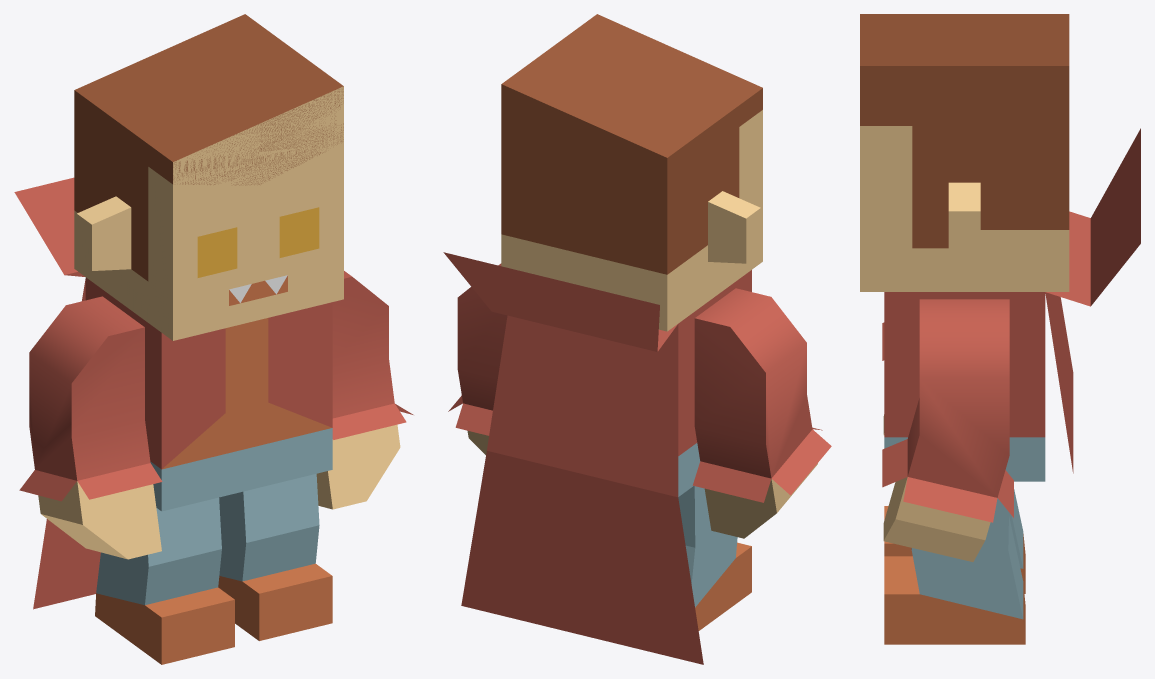
File: characterVampire.obj
3 views of the same model, side by side, from view 1: azimuth 30°, elevation 25°; view 2: azimuth 150°, elevation 25°; view 3: azimuth 270°, elevation 25° (orthographic). The views are drawn at different scales.
Parts seen in each view (by area): view 1: head, body, armRight, legRight, legLeft, armLeft, cape; view 2: cape, head, armRight, legRight, armLeft, body; view 3: head, armLeft, legLeft, body, cape, legRight.
Part boxes in pixels (x1=…): head: x1=74, y1=14, x2=343, y2=340; body: x1=85, y1=277, x2=332, y2=511; armRight: x1=19, y1=296, x2=162, y2=559; legRight: x1=95, y1=497, x2=234, y2=664; legLeft: x1=218, y1=473, x2=332, y2=640; armLeft: x1=316, y1=271, x2=413, y2=509; cape: x1=14, y1=177, x2=100, y2=609; cape: x1=443, y1=252, x2=703, y2=664; head: x1=501, y1=14, x2=762, y2=331; armRight: x1=692, y1=288, x2=831, y2=538; legRight: x1=678, y1=486, x2=751, y2=630; armLeft: x1=448, y1=263, x2=507, y2=454; body: x1=678, y1=270, x2=751, y2=496; head: x1=860, y1=14, x2=1069, y2=291; armLeft: x1=882, y1=299, x2=1013, y2=561; legLeft: x1=884, y1=498, x2=1025, y2=644; body: x1=884, y1=292, x2=1045, y2=481; cape: x1=1045, y1=128, x2=1140, y2=473; legRight: x1=884, y1=489, x2=1025, y2=593.
Bounding box in the file's own units: 0.5371 × 0.7932 × 0.3489.
